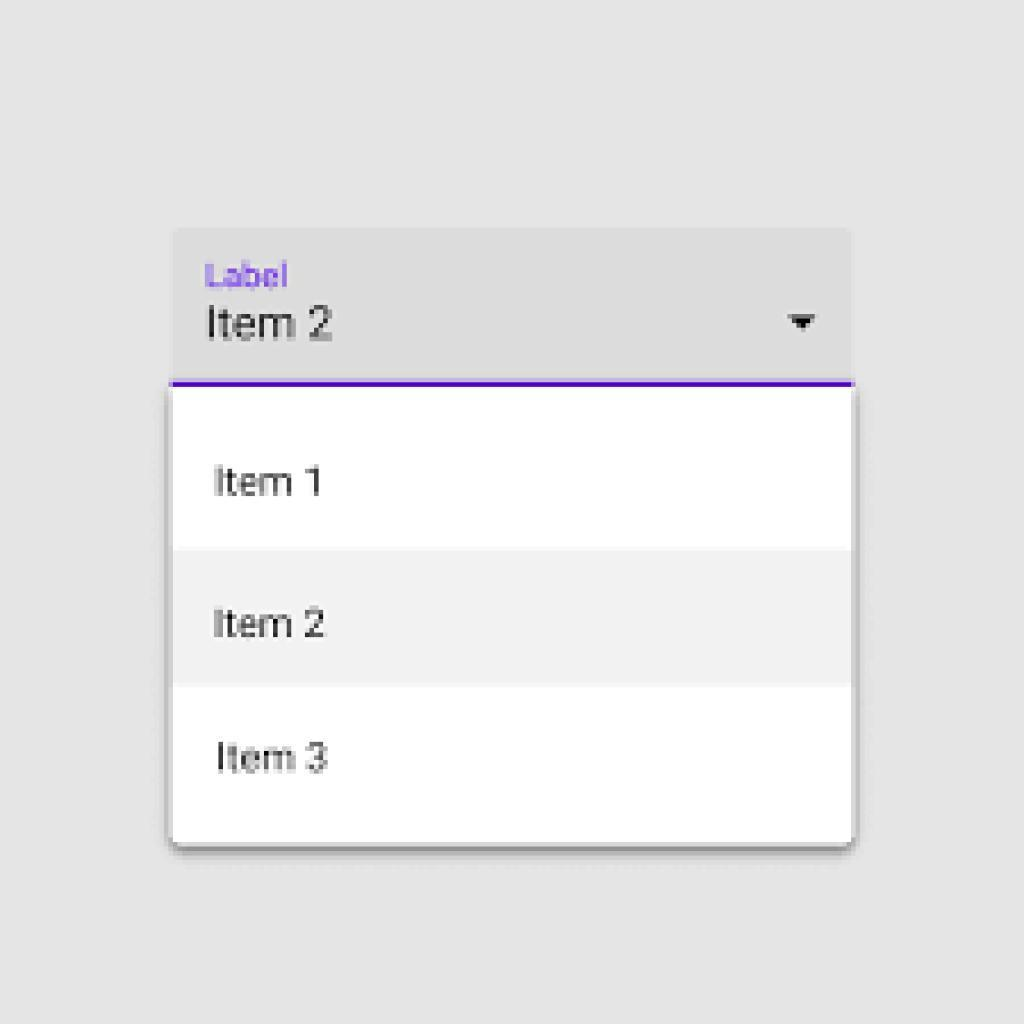dropdown: (171, 225, 856, 386)
